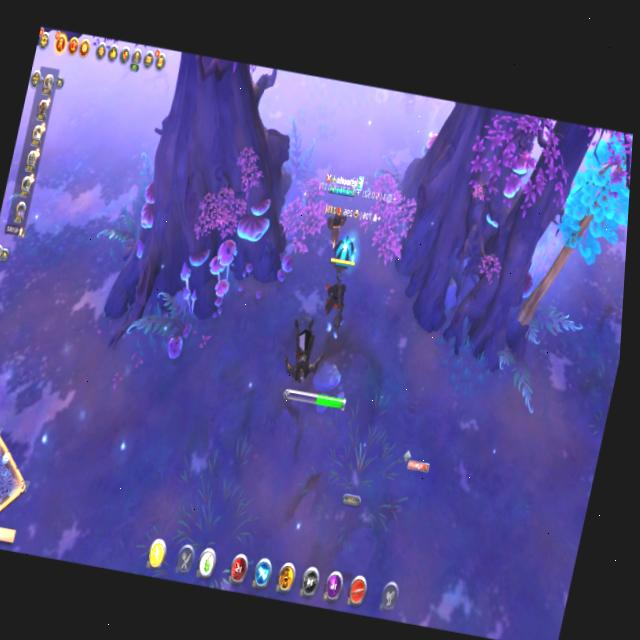red: (312, 169, 368, 261), (315, 251, 358, 326)
wisp caged: (503, 120, 634, 361)
